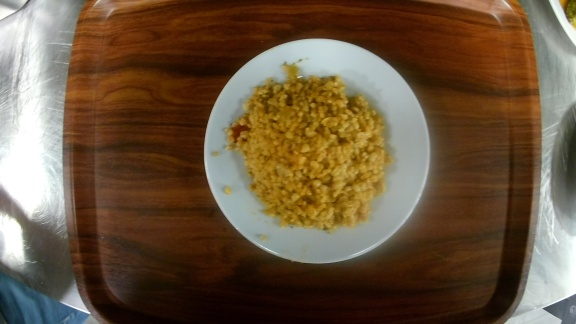bulgur: (204, 38, 431, 265)
